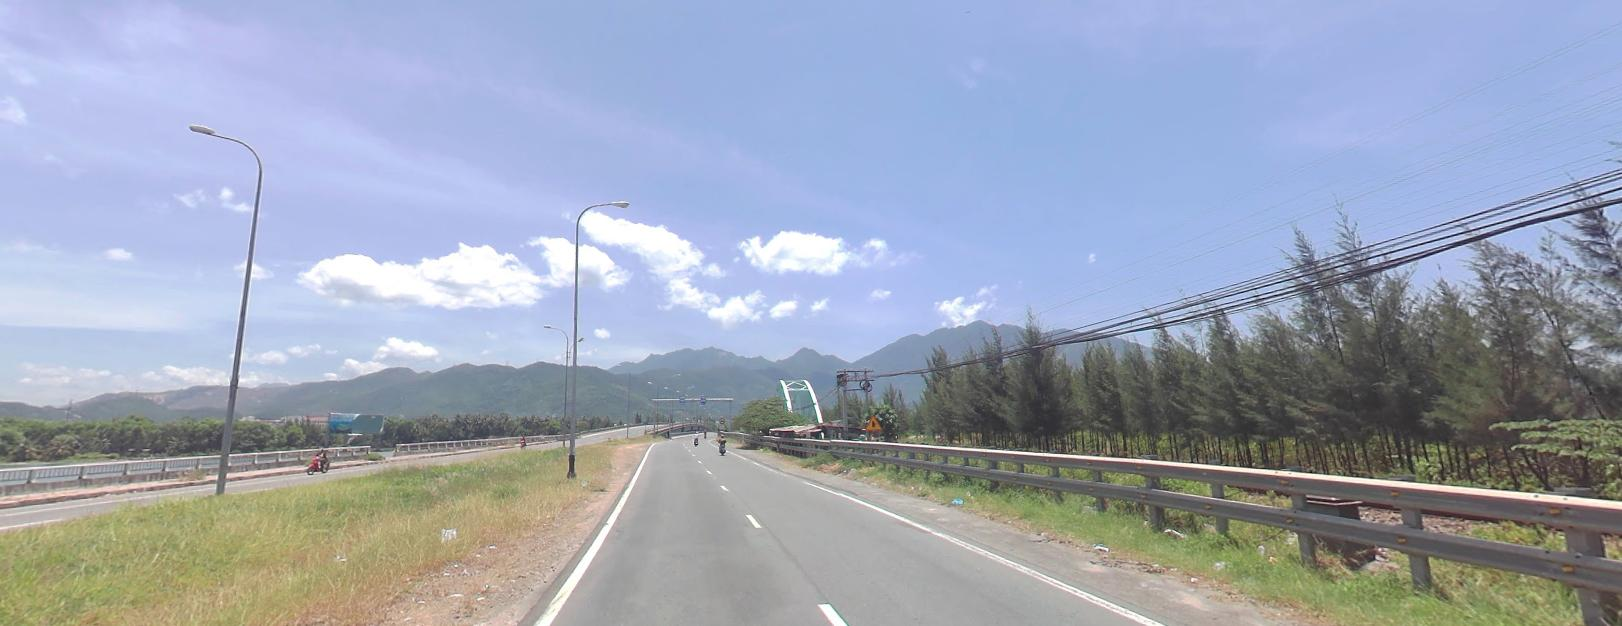Cam con lai: (719, 417, 725, 421)
Nguy hiem: (866, 414, 884, 430)
